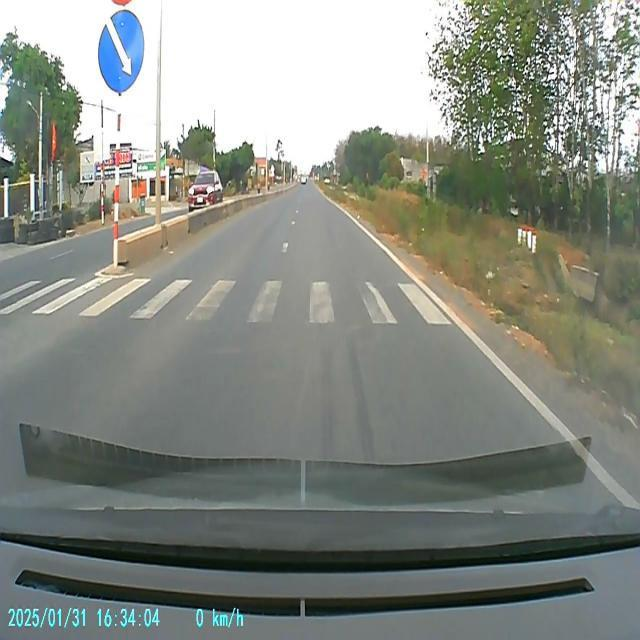302a-huong-phai-di-vong-chuong-ngai-vat-1: (98, 8, 146, 94)
